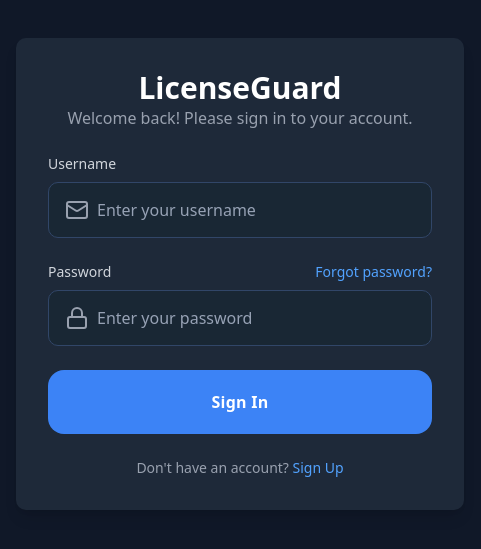
Test: LoginPage Component › Empty Fields Validation › should handle username that is too short
The width and height of the screenshot is (481, 549).
Type "abc" into the field with placeholder "Enter your username" at [260, 210], box [89,183,431,237]
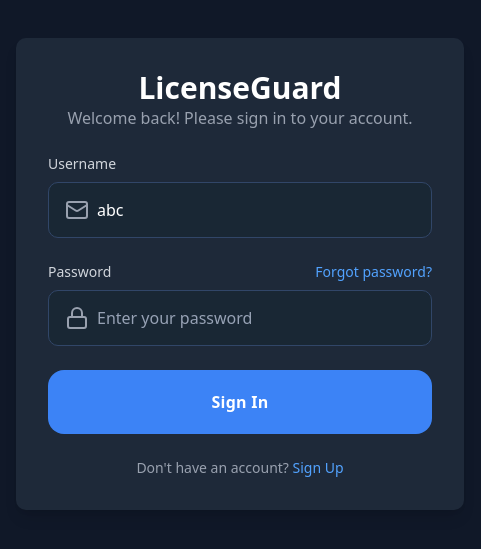
Type "password123" into the password field with placeholder "Enter your password" at [260, 318], box [89,291,431,345]
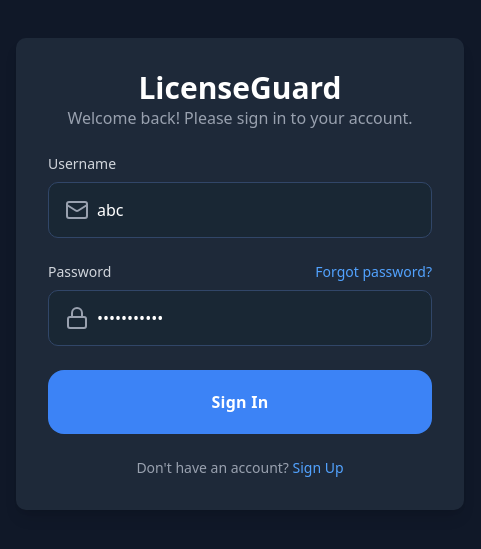
Click the button "Sign In" at [240, 402], box [48,370,432,434]
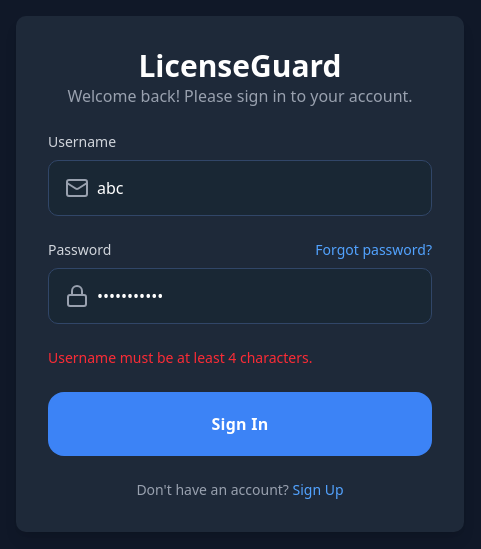
Expected: the text "Username must be at least 4 characters." is shown, [48,348,312,367]
